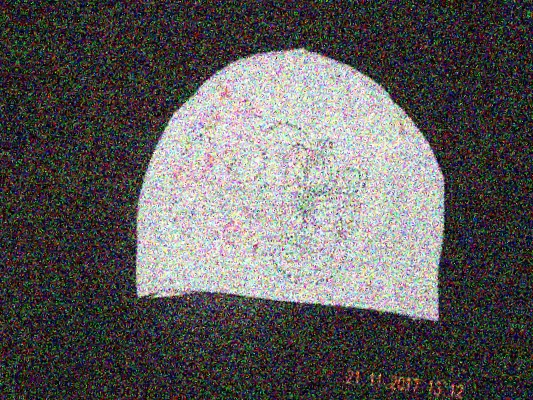Hat: (89, 0, 503, 373)
